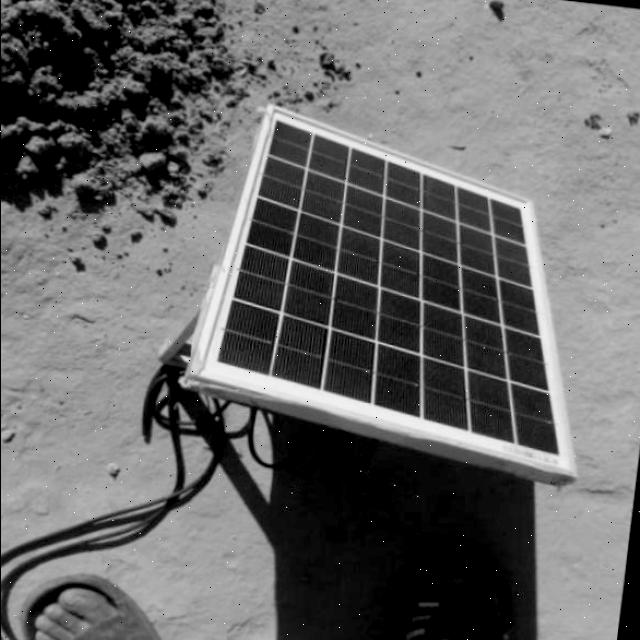Normal Solar Panel: (182, 99, 616, 478)
